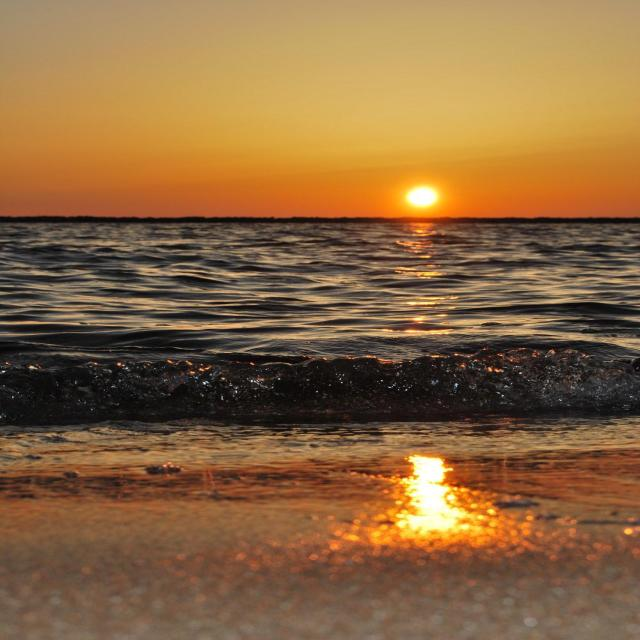other: (351, 447, 525, 554), (382, 182, 469, 217)
